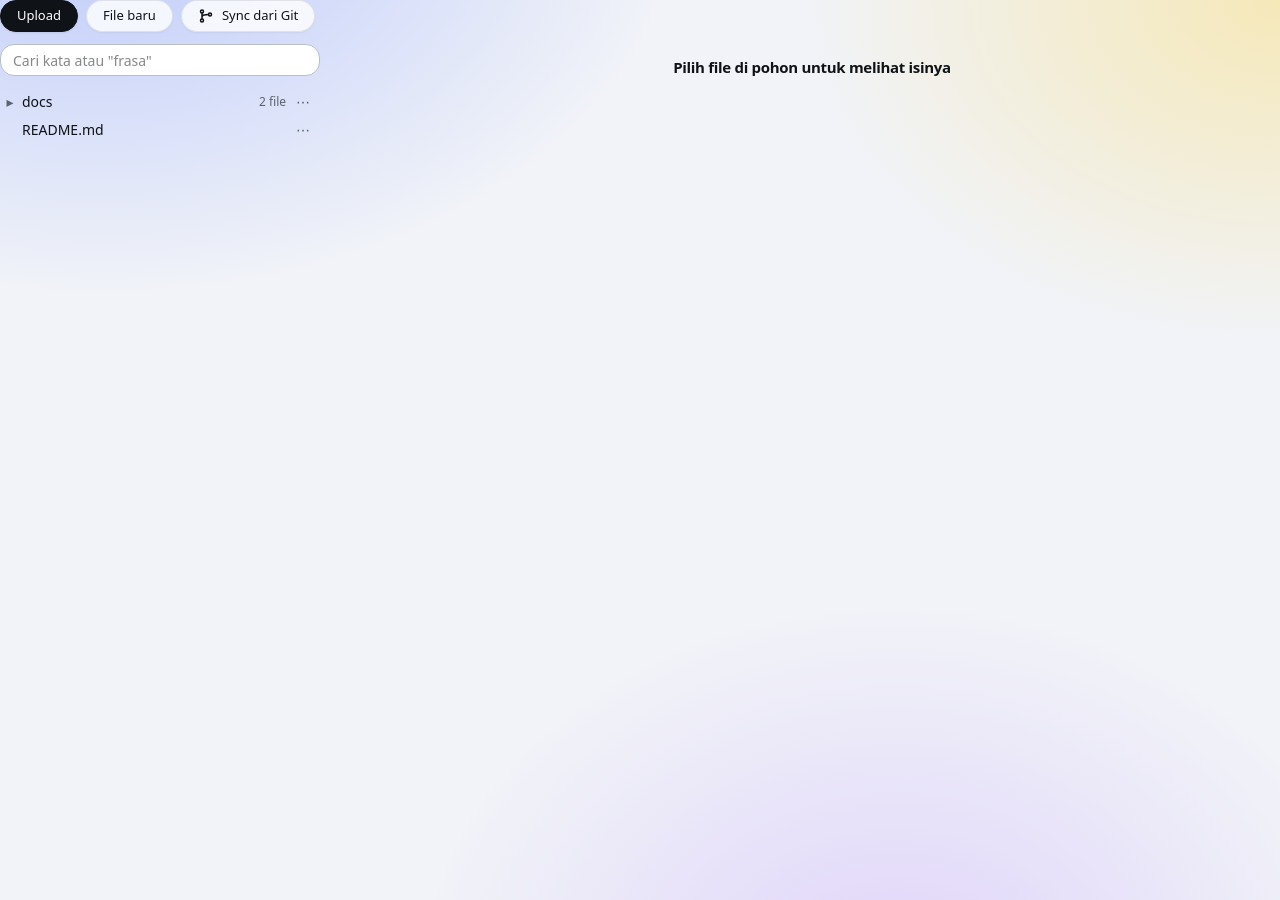
Test: KnowledgeTab composition › Sync dari Git button in the sidebar opens the knowledge dialog
The width and height of the screenshot is (1280, 900).
What coordinates should you click on to do the following:
click the button "Sync dari Git"
I would click on:
 (248, 16)
Its box is [181,0,315,32].
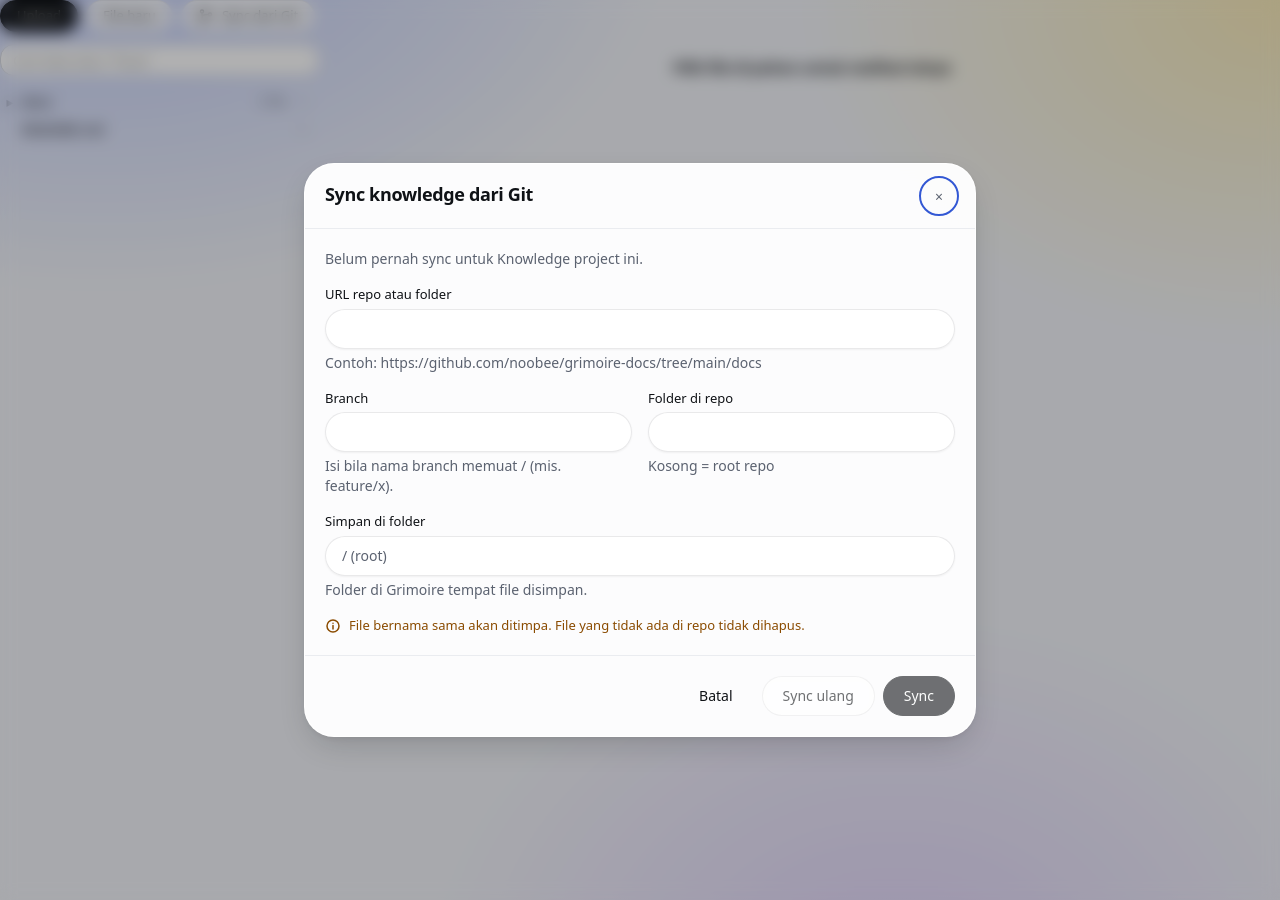
Result: the heading "Sync knowledge dari Git" is shown at [325,180,533,208]
